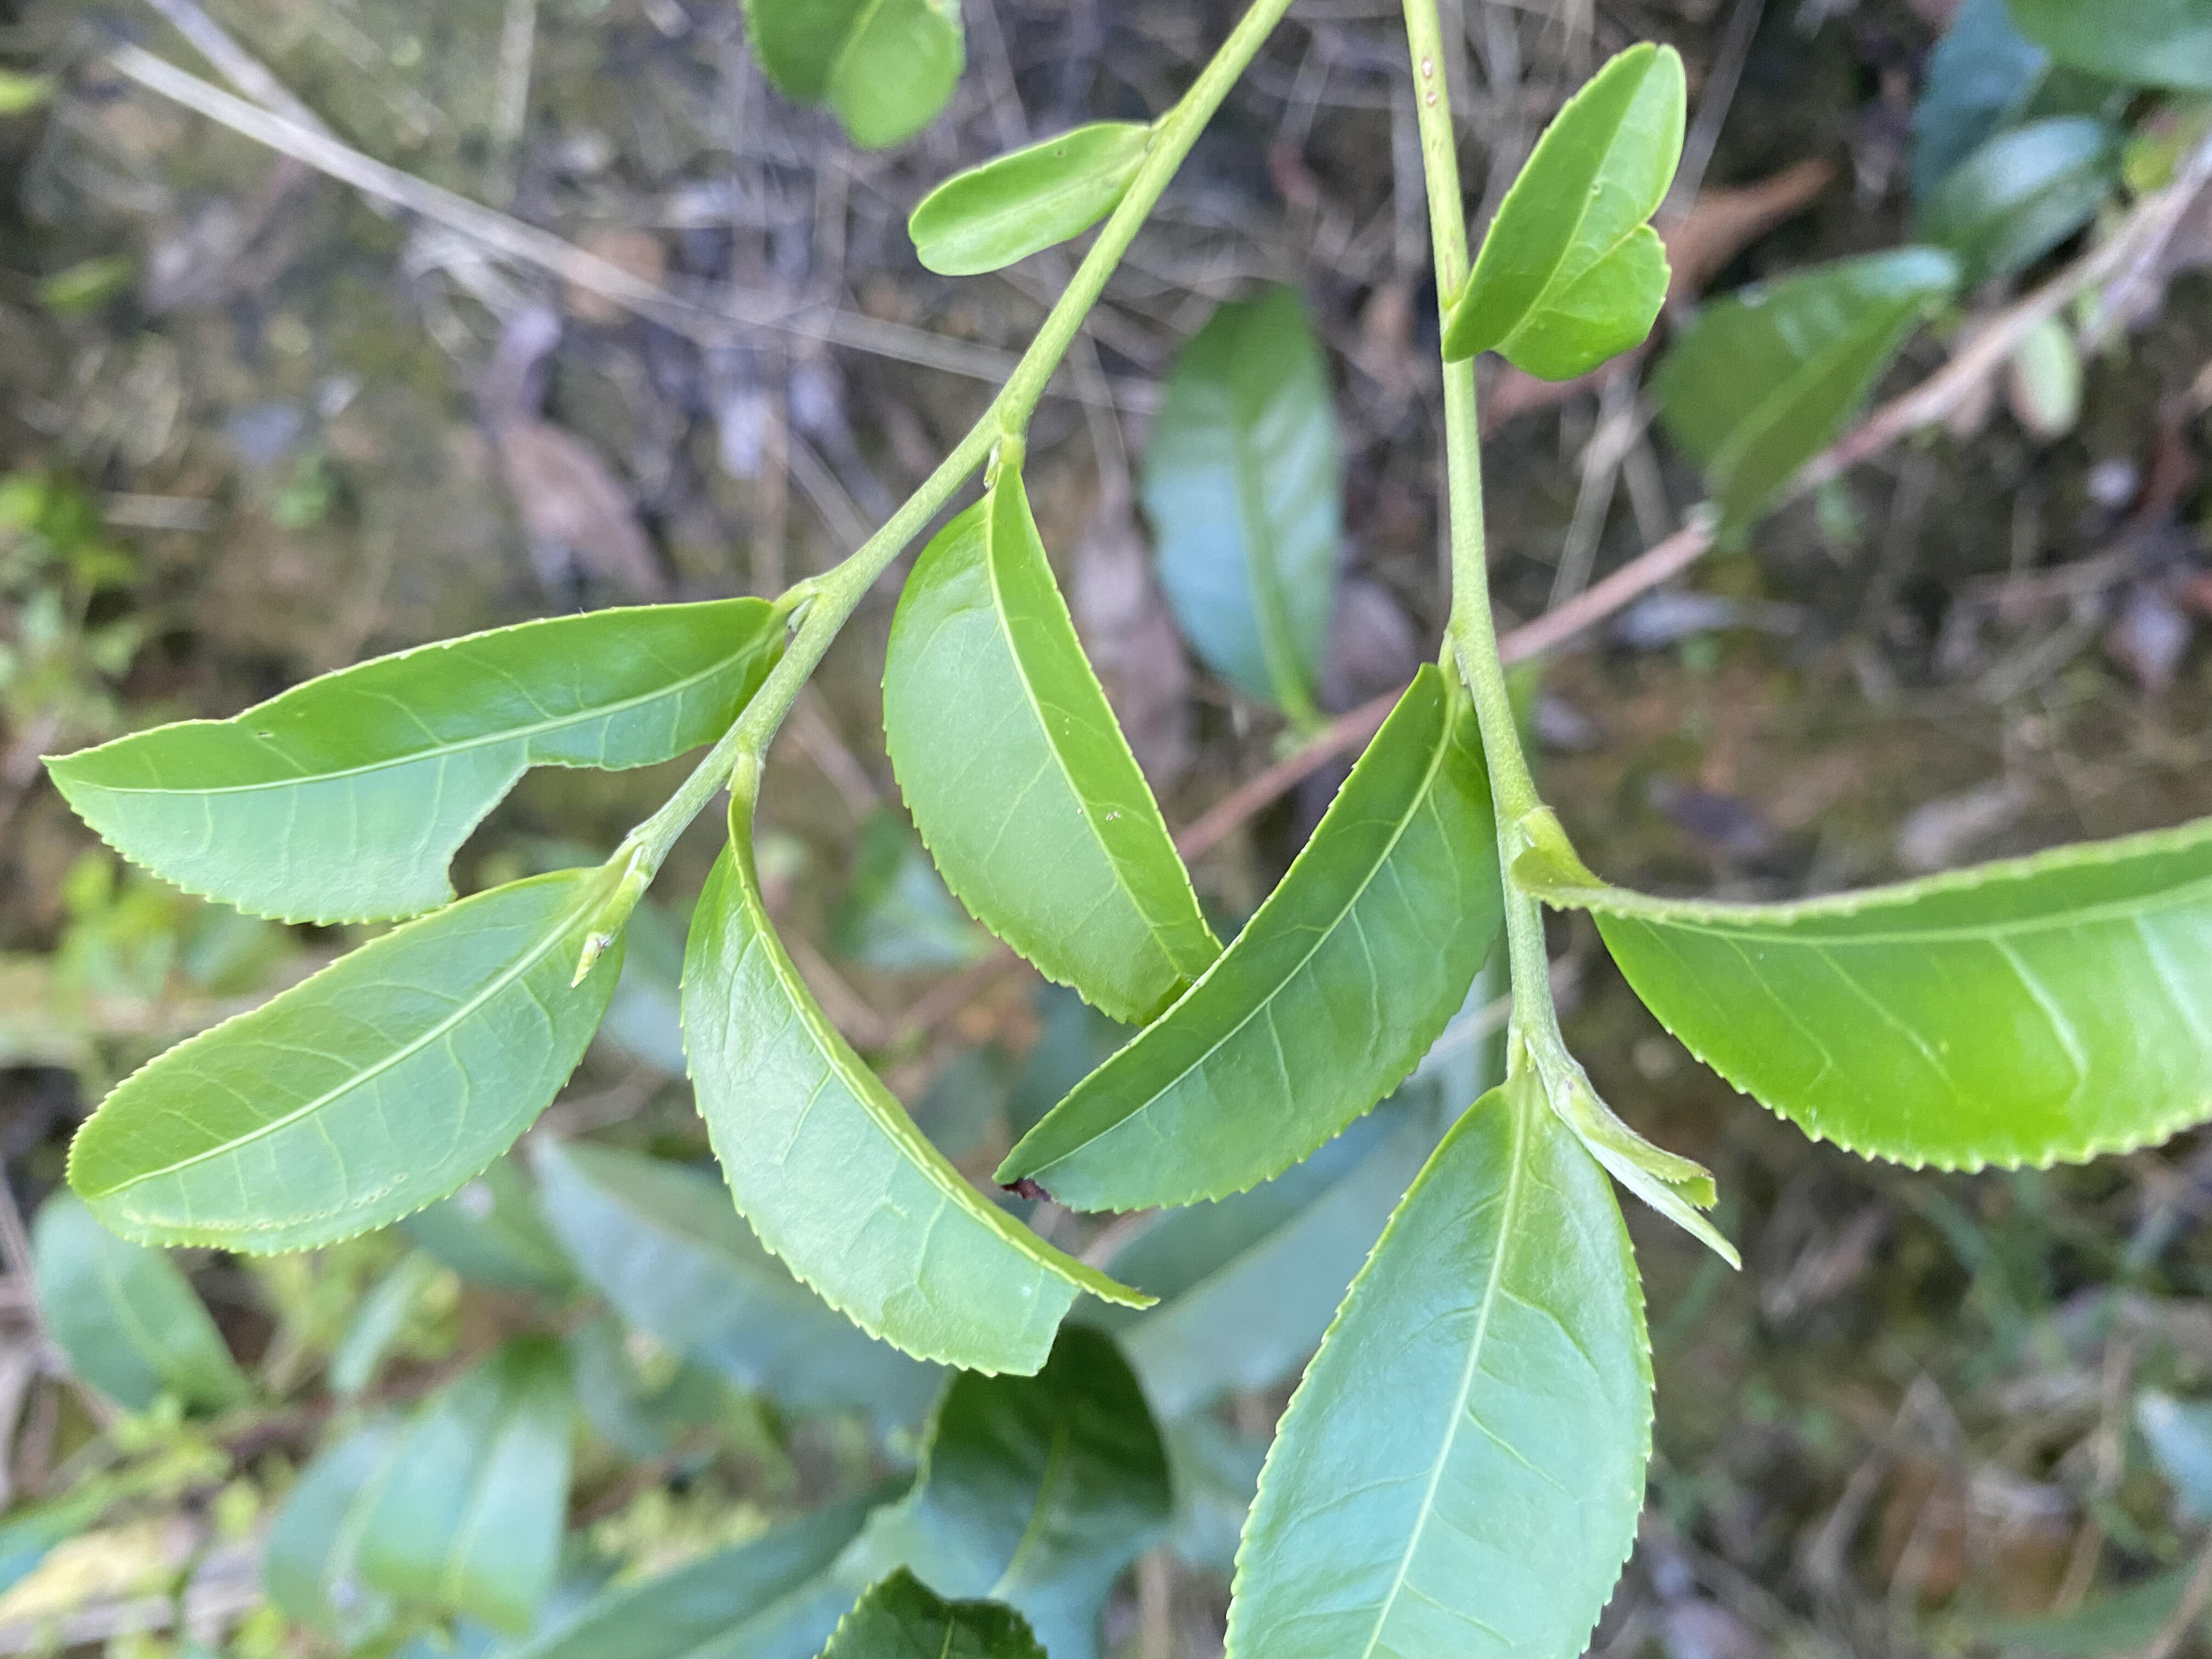chihuo_low: (679, 810, 1160, 1380), (38, 598, 794, 927)
healthy: (1510, 814, 2209, 1176), (1223, 1086, 1662, 1657), (64, 866, 625, 1260), (878, 465, 1224, 1026), (909, 120, 1157, 279)
tanju_low: (989, 657, 1503, 1216)
